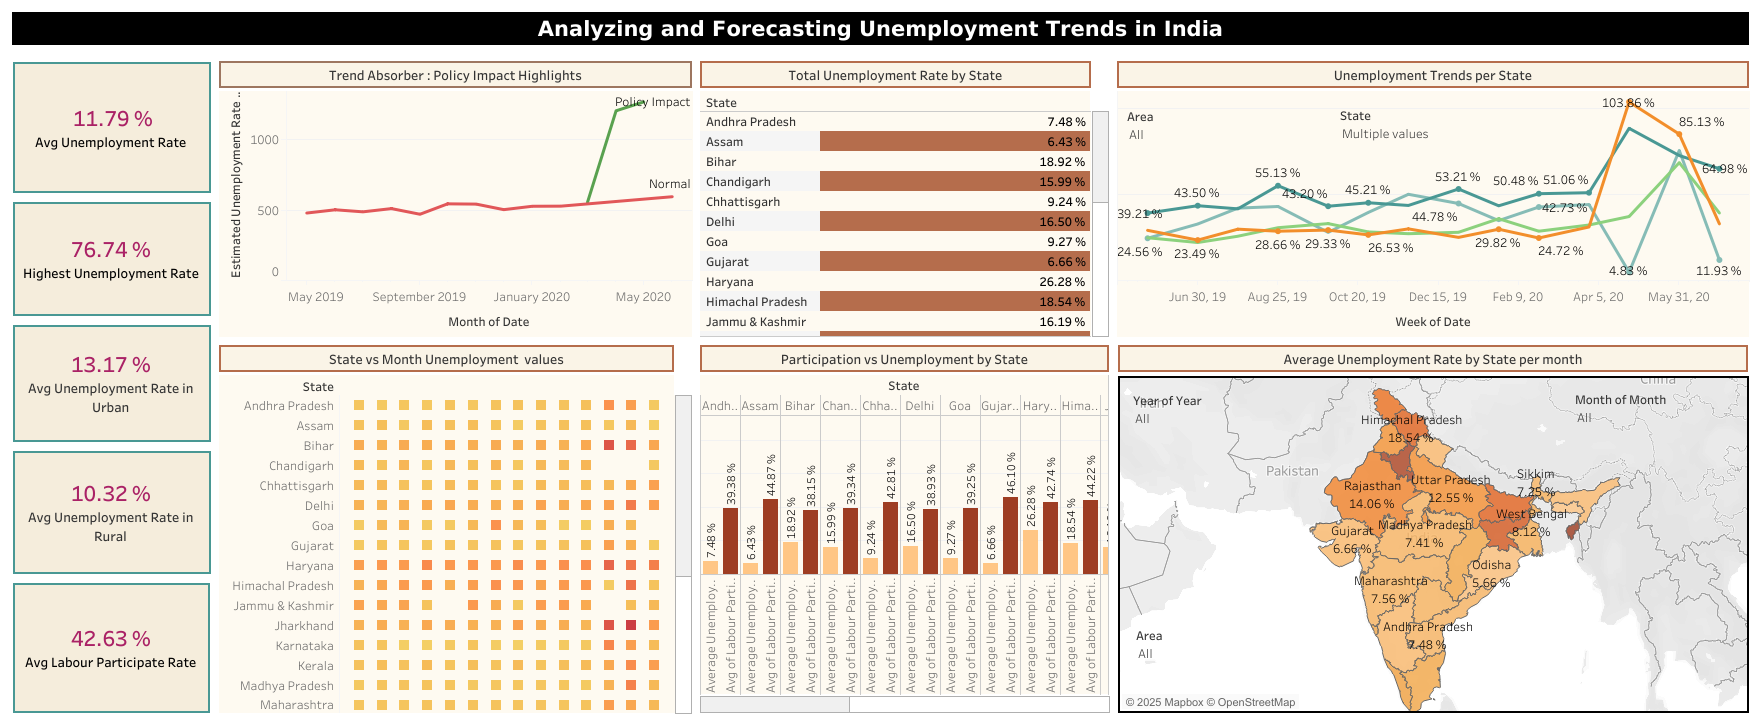

The dashboard page shown, as its layout file describes it:
{"tool":"tableau","page":{"name":"Dashboard 1","canvas":[1000,1000],"units":"permille","ordinal":0},"visuals":[{"type":"worksheet","title":"Analyzing and Forecasting Unemployment Trends in India","mark":"Automatic","box":[6.9,14.5,986.1,67]},{"type":"worksheet","title":"Avg Unemployment rate","mark":"Automatic","box":[6.9,81.5,116.9,192.2]},{"type":"worksheet","title":"Trend Absorber : Policy Impact Highlights","mark":"Automatic","rows":["Estimated Unemployment Rate (%)"],"cols":["Date"],"box":[123.8,81.5,271.8,389.6]},{"type":"worksheet","title":"Total Unemployment Rate by State","mark":"Automatic","rows":["Region"],"box":[395.6,81.5,235.5,389.6]},{"type":"worksheet","title":"Unemployment Trends per State","mark":"Line","rows":["Estimated Unemployment Rate (%)"],"cols":["Date"],"box":[631.1,81.5,361.9,389.6]},{"type":"filter","title":"Unemployment Trends per State","param":"[federated.09oyh0t0zn0jyo1ggpwgk0bwi96d].[none:Region:nk]","box":[761,144.9,107.4,70.7]},{"type":"filter","title":"Unemployment Trends per State","param":"[federated.09oyh0t0zn0jyo1ggpwgk0bwi96d].[none:Area:nk]","box":[639.8,146.7,107.4,63.4]},{"type":"worksheet","title":"Highest Unemployment Rate ","mark":"Automatic","box":[6.9,273.7,116.9,168.6]},{"type":"worksheet","title":"Avg Unemployment Rate in Urban","mark":"Automatic","box":[6.9,442.3,116.9,172.1]},{"type":"worksheet","title":"State vs Month Unemployment  values","mark":"Square","rows":["Region"],"cols":["Date"],"box":[123.8,471.1,271.8,514.4]},{"type":"worksheet","title":"Participation vs Unemployment by State","mark":"Bar","cols":["Region"],"box":[395.6,471.1,235.5,514.4]},{"type":"worksheet","title":"Average Unemployment Rate by State per month","mark":"Multipolygon","box":[631.1,471.1,361.9,514.4]},{"type":"filter","title":"Average Unemployment Rate by State per month","param":"[federated.09oyh0t0zn0jyo1ggpwgk0bwi96d].[mn:Month:ok]","box":[894.4,536.2,82.2,76.1]},{"type":"filter","title":"Average Unemployment Rate by State per month","param":"[federated.09oyh0t0zn0jyo1ggpwgk0bwi96d].[yr:Year:ok]","box":[643.3,538,84,74.3]},{"type":"worksheet","title":"Avg Unemployment Rate in Rural ","mark":"Automatic","box":[6.9,614.3,116.9,180.5]},{"type":"worksheet","title":"Avg Labour Participate Rate","mark":"Automatic","box":[6.9,794.8,116.9,190.7]},{"type":"filter","title":"Average Unemployment Rate by State per month","param":"[federated.09oyh0t0zn0jyo1ggpwgk0bwi96d].[none:Area:nk]","box":[645,862.3,71,76.1]}]}

Visuals, with their boxes on the dashboard's canvas, which has no fixed pixel size, in thousandths of its width and height (x1, y1, x2, y2). These are canvas units, not pixel positions in the 1760x724 screenshot, which may show the page scaled, cropped or inside an application window:
"Analyzing and Forecasting Unemployment Trends in India" worksheet: <region>7, 14, 993, 82</region>
"Avg Unemployment rate" worksheet: <region>7, 82, 124, 274</region>
"Trend Absorber : Policy Impact Highlights" worksheet: <region>124, 82, 396, 471</region>
"Total Unemployment Rate by State" worksheet: <region>396, 82, 631, 471</region>
"Unemployment Trends per State" worksheet (Line marks): <region>631, 82, 993, 471</region>
"Unemployment Trends per State" filter: <region>761, 145, 868, 216</region>
"Unemployment Trends per State" filter: <region>640, 147, 747, 210</region>
"Highest Unemployment Rate " worksheet: <region>7, 274, 124, 442</region>
"Avg Unemployment Rate in Urban" worksheet: <region>7, 442, 124, 614</region>
"State vs Month Unemployment  values" worksheet (Square marks): <region>124, 471, 396, 986</region>
"Participation vs Unemployment by State" worksheet (Bar marks): <region>396, 471, 631, 986</region>
"Average Unemployment Rate by State per month" worksheet (Multipolygon marks): <region>631, 471, 993, 986</region>
"Average Unemployment Rate by State per month" filter: <region>894, 536, 977, 612</region>
"Average Unemployment Rate by State per month" filter: <region>643, 538, 727, 612</region>
"Avg Unemployment Rate in Rural " worksheet: <region>7, 614, 124, 795</region>
"Avg Labour Participate Rate" worksheet: <region>7, 795, 124, 986</region>
"Average Unemployment Rate by State per month" filter: <region>645, 862, 716, 938</region>
